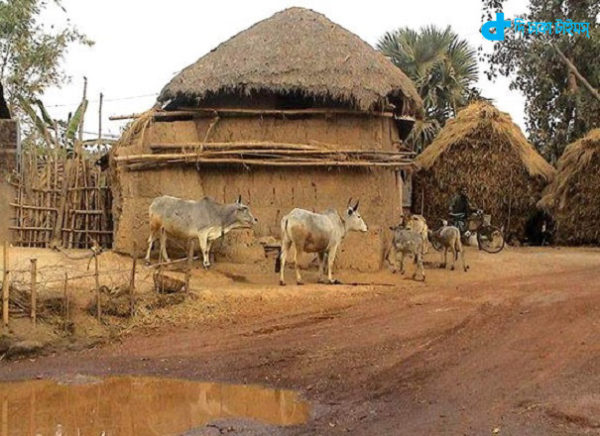Mud House: (107, 18, 422, 269)
